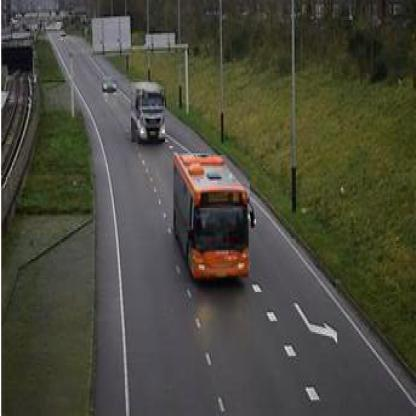bus: (173, 156, 251, 286)
car: (103, 78, 120, 94), (60, 29, 69, 38)
truck: (131, 81, 166, 145)
